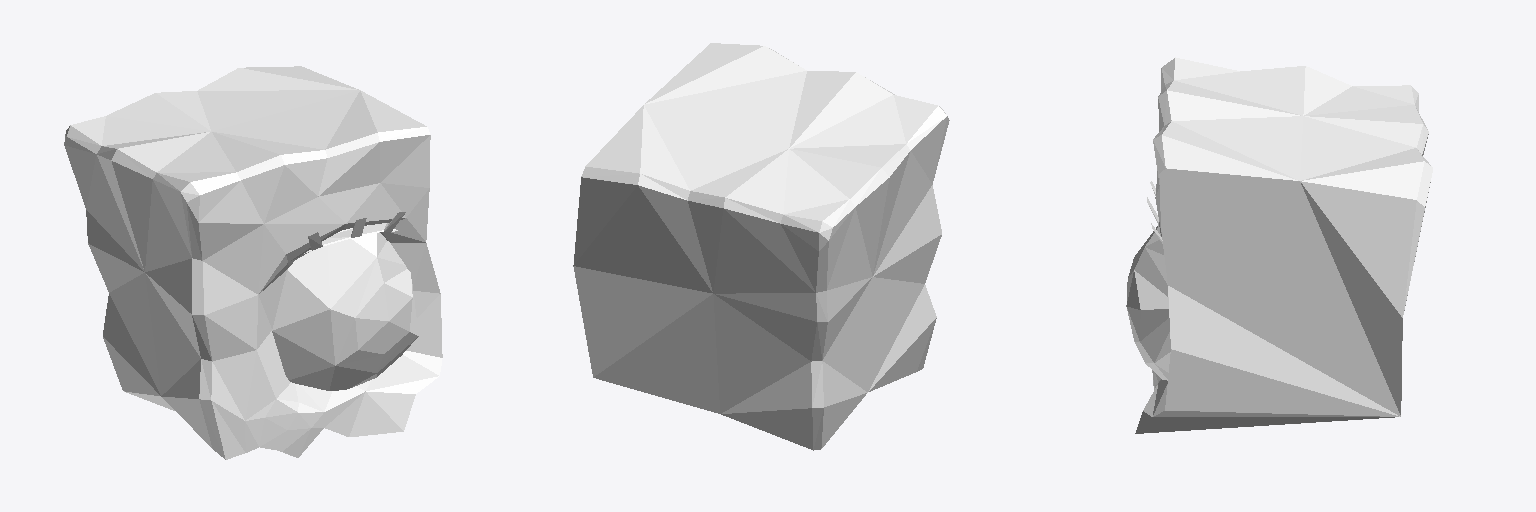
The model's file is eye2.obj.
The picture shows the model from 3 angles: view 1: azimuth 30°, elevation 25°; view 2: azimuth 150°, elevation 25°; view 3: azimuth 270°, elevation 25°; orthographic projection.
Parts seen in each view (by area): view 1: mesh0054; view 2: mesh0054; view 3: mesh0054.
Boxes of the visible parts, x1,y1,x2,y2 form: mesh0054: [64, 66, 442, 459]; mesh0054: [573, 43, 949, 450]; mesh0054: [1126, 57, 1432, 433].
Bounding box in the file's own units: 1.07 × 1.16 × 1.07.